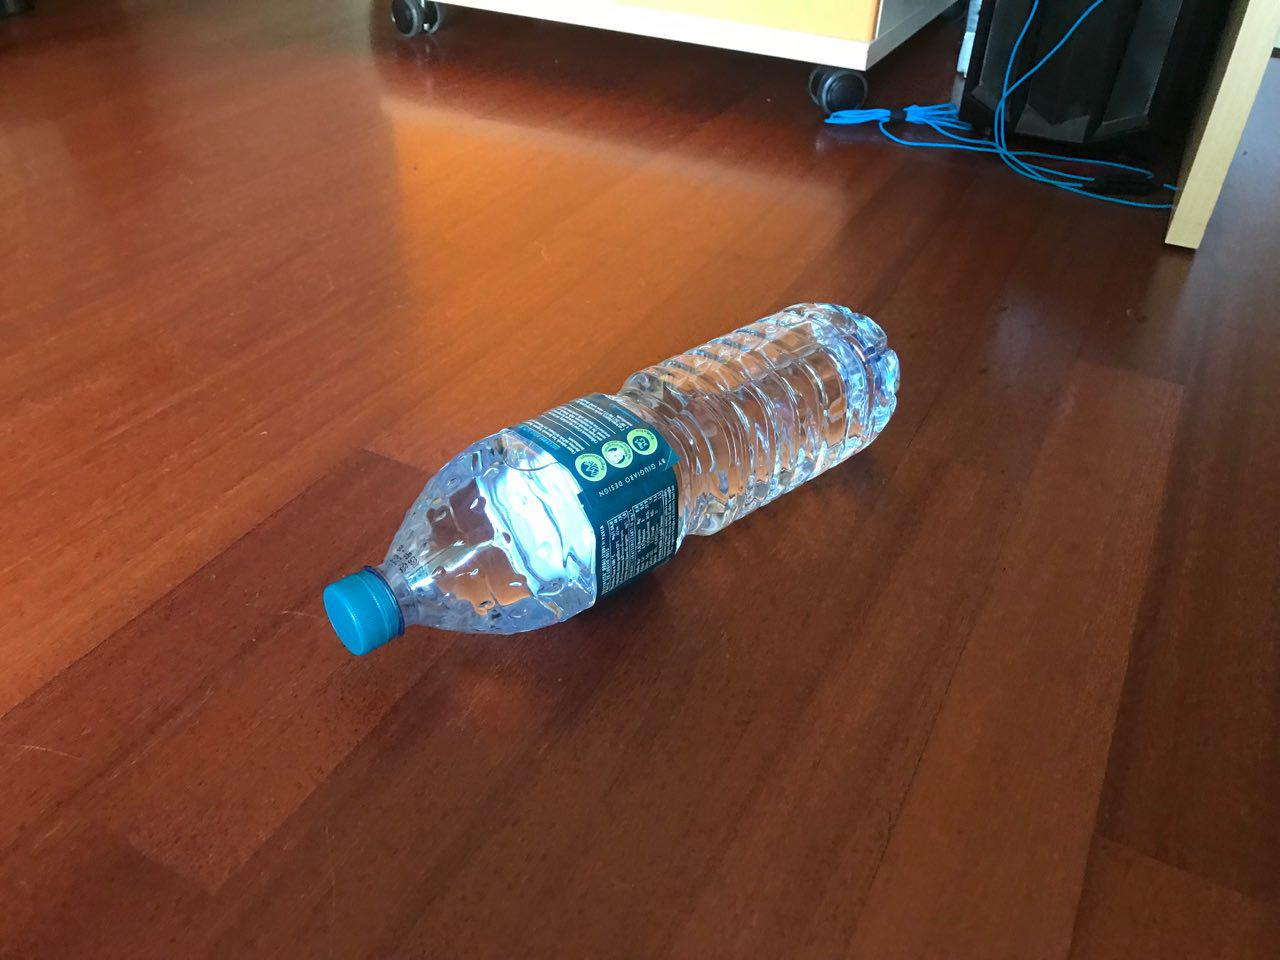san_bernardo: (319, 299, 902, 659)
